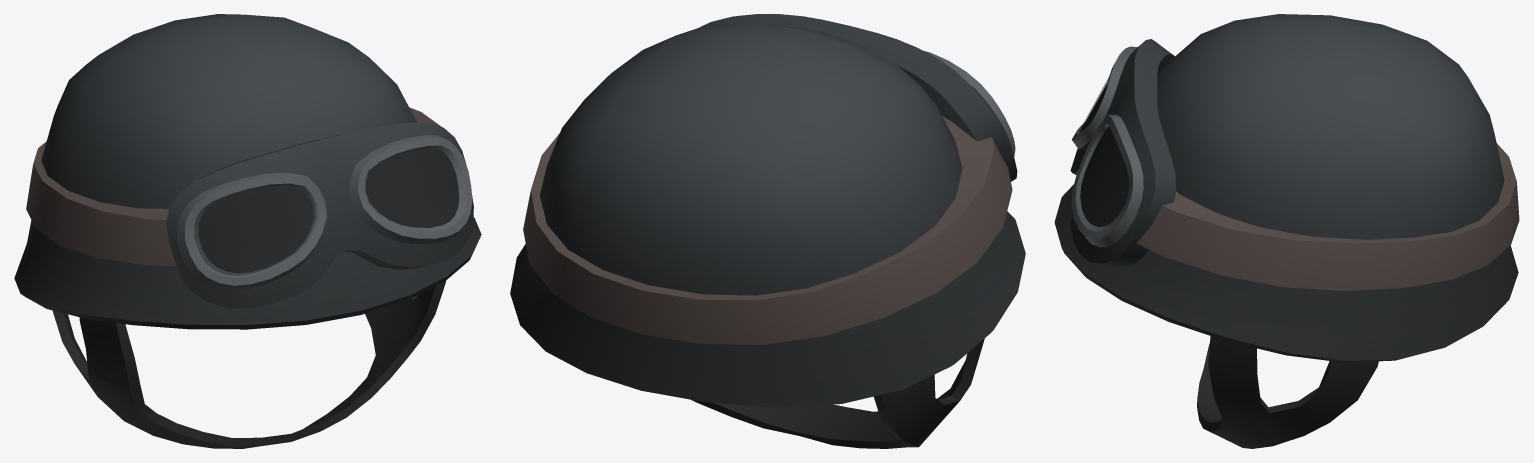
File: Hat_52.glb
3 renders of one model, left to right at view 1: azimuth 30°, elevation 25°; view 2: azimuth 150°, elevation 25°; view 3: azimuth 270°, elevation 25°, orthographic. The views are drawn at different scales.
Parts seen in each view (by area): view 1: Hat_52; view 2: Hat_52; view 3: Hat_52.
Boxes of the visible parts, x1,y1,x2,y2 form: Hat_52: [14, 14, 481, 448]; Hat_52: [510, 14, 1025, 448]; Hat_52: [1054, 14, 1519, 448].
Size of the model in its own units: 0.7024 by 0.6153 by 0.6803.
Materials: 2 (2 with a texture image).
